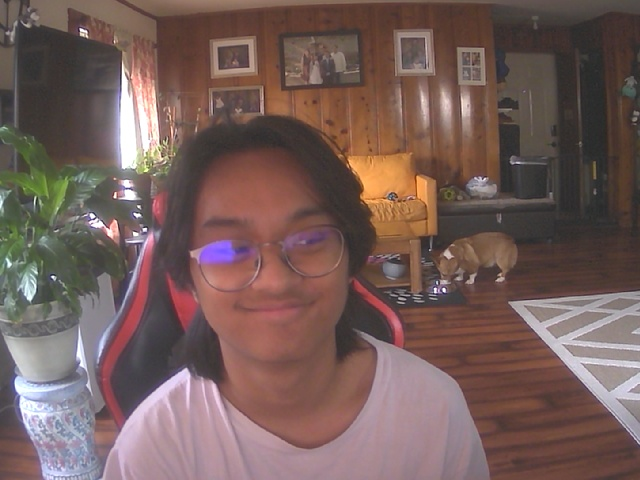happy: (179, 128, 369, 370)
